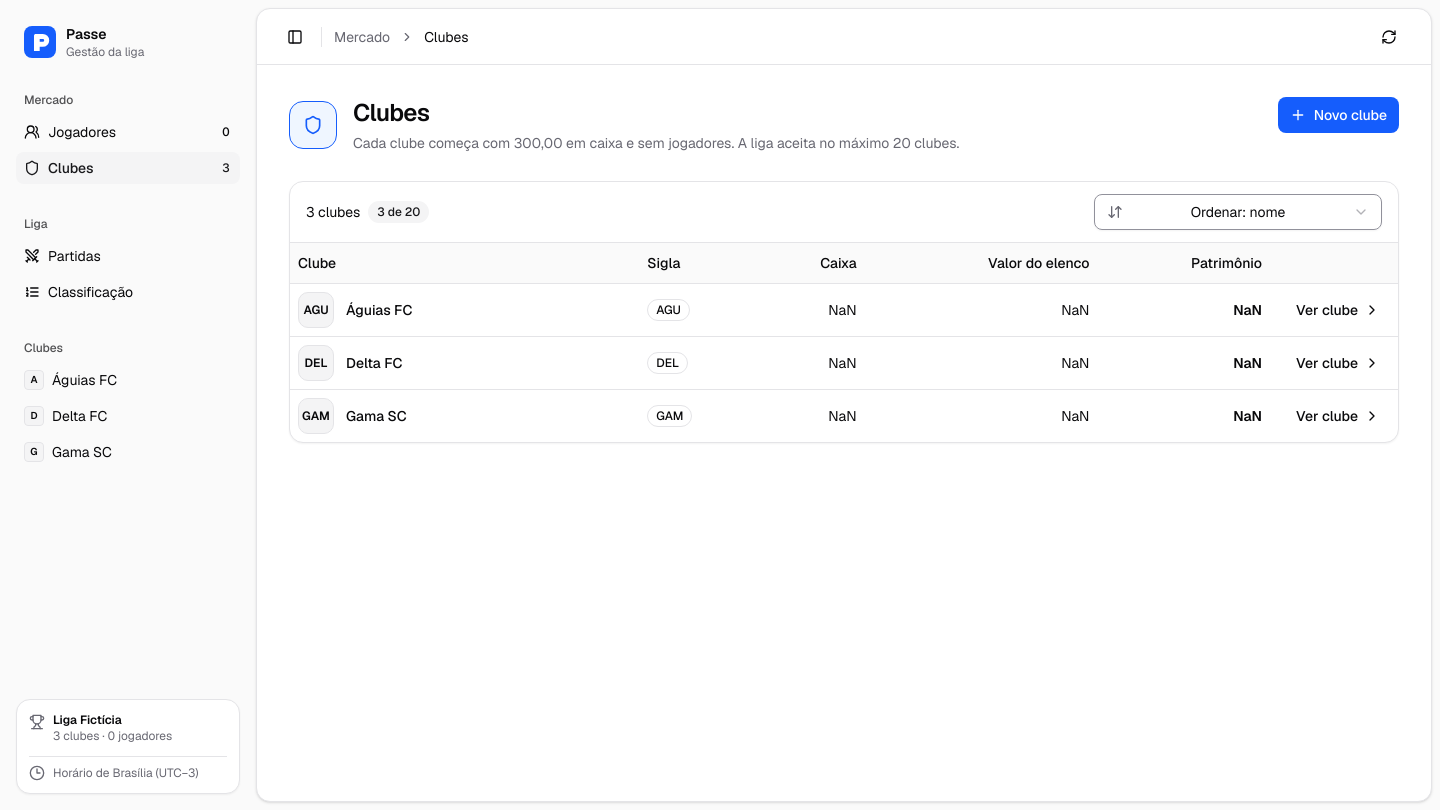
Test case: F05 club creation › shows required-field errors beside both inputs without sending a request
Check: the table named "Clubes" is shown, box 290,243 -> 1398,442
Step 1. Click the button "Novo clube" → [1338, 115], box 1278,97 -> 1399,133
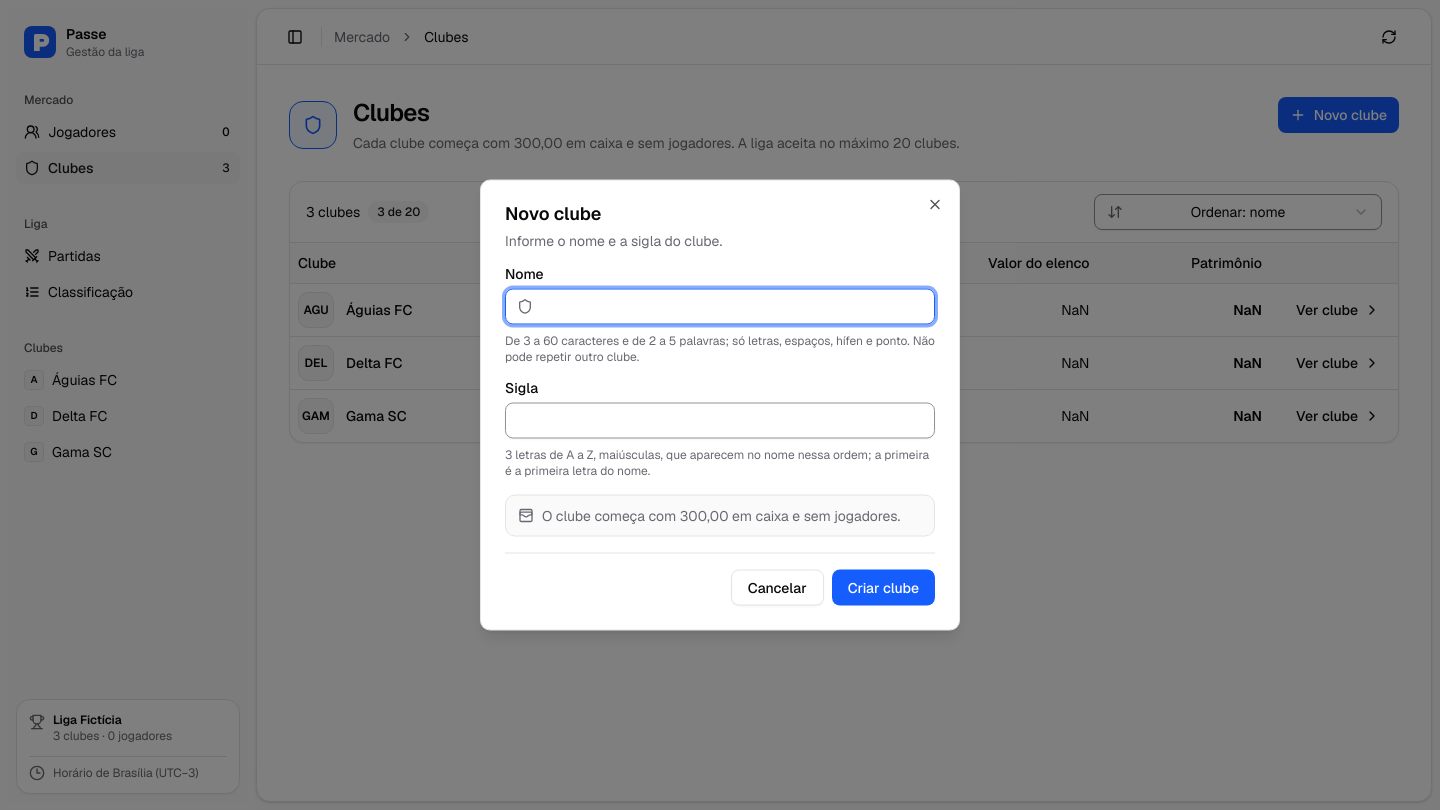
Step 2. Click the button "Criar clube" → [883, 588], box 832,570 -> 935,606
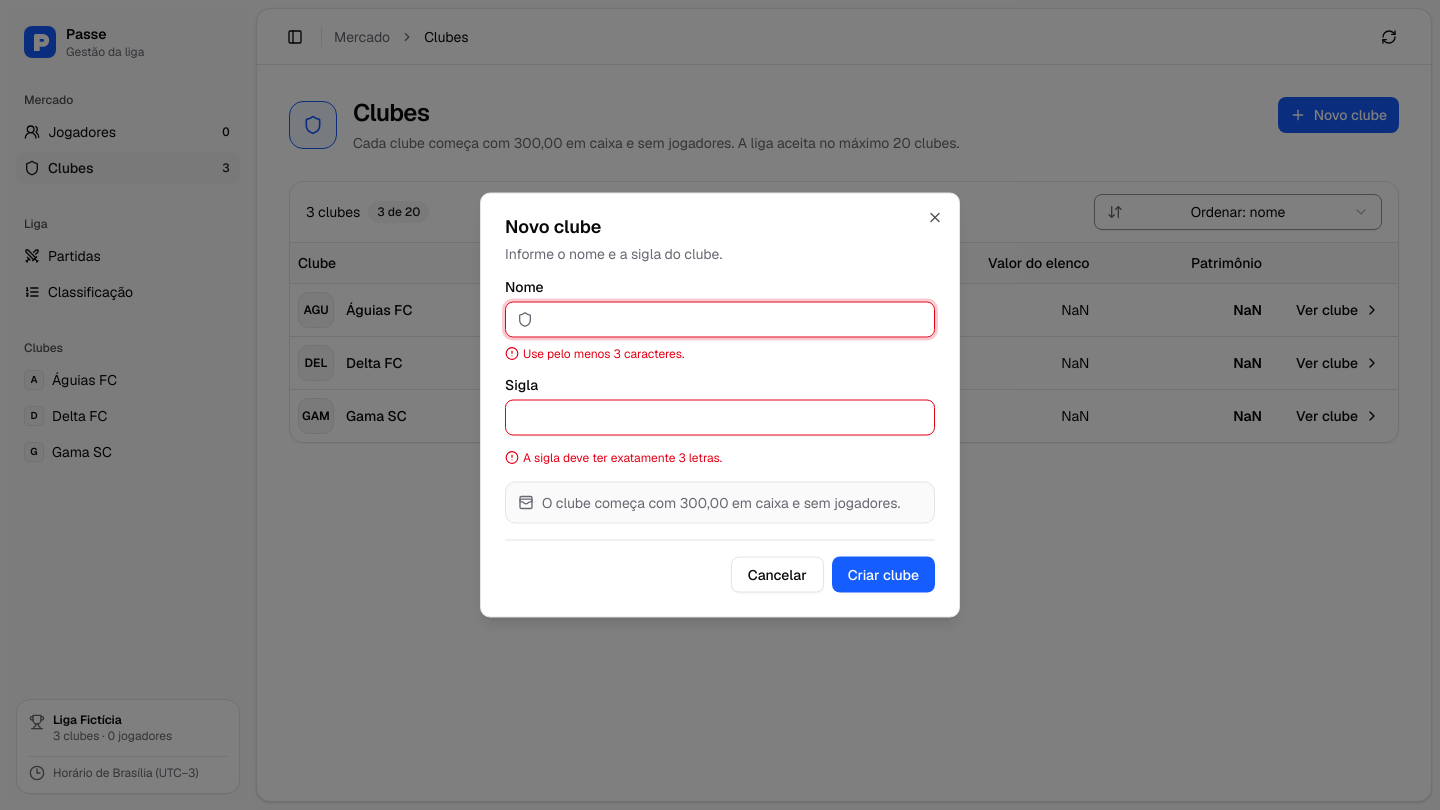
Check: the text "Use pelo menos 3 caracteres." is shown, box 505,346 -> 684,362
Check: the text "A sigla deve ter exatamente 3 letras." is shown, box 505,450 -> 722,466
